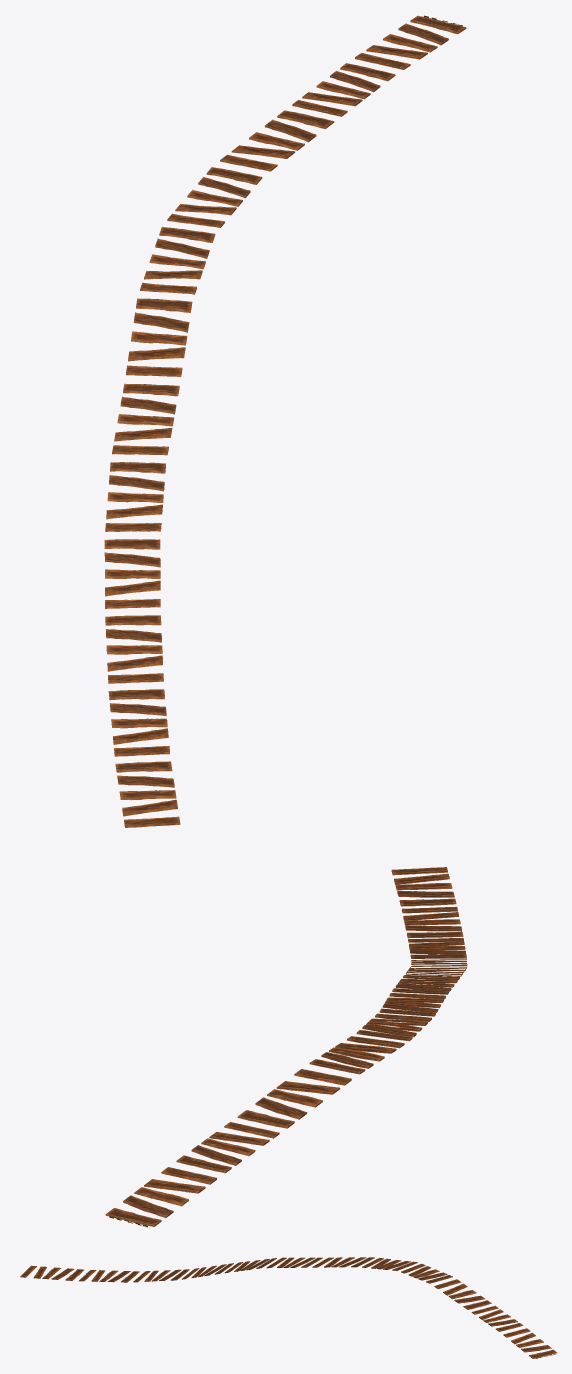
Rendered from SWORDLIGHT20_LOFT01.obj.
3 renders of one model, top to bottom at view 1: azimuth 30°, elevation 25°; view 2: azimuth 210°, elevation 25°; view 3: azimuth 270°, elevation 25°, orthographic. The views are drawn at different scales.
Parts seen in each view (by area): view 1: Loft01; view 2: Loft01; view 3: Loft01.
Part boxes in pixels (box(x1,y1,x2,y2)): Loft01: box(104, 15, 466, 827); Loft01: box(105, 867, 467, 1227); Loft01: box(20, 1257, 557, 1358).
Bounding box in the file's own units: 2857 × 747 × 3170.
